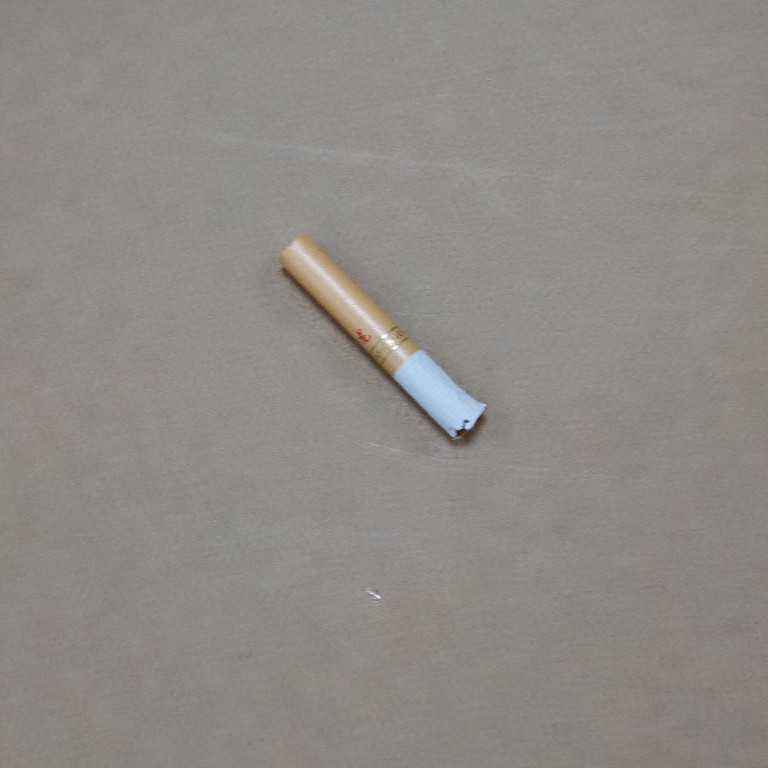cigarette: (277, 229, 492, 448)
